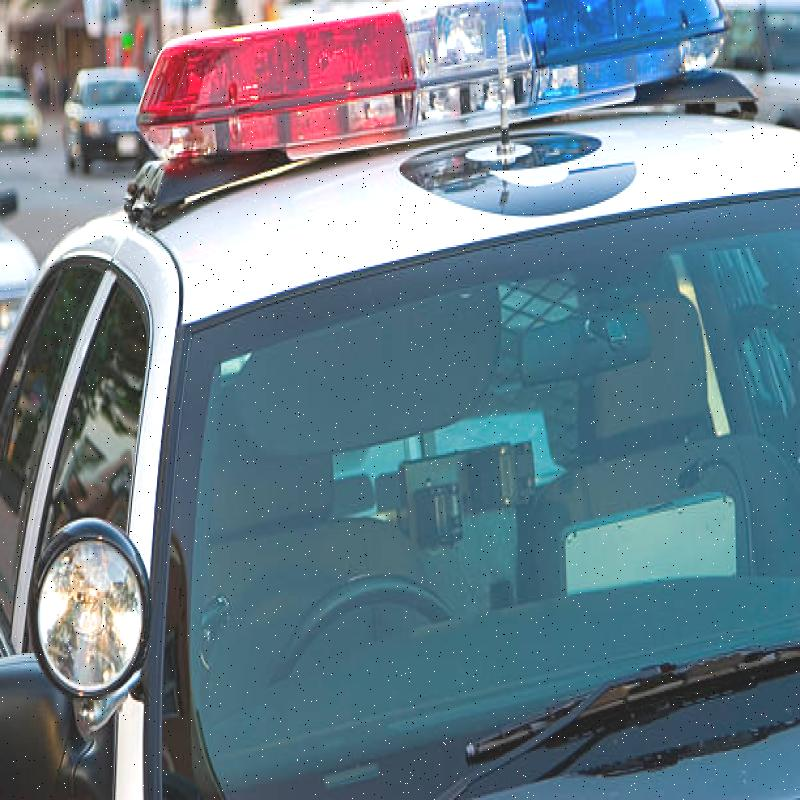AmbulanceSiren: (118, 0, 748, 239)
